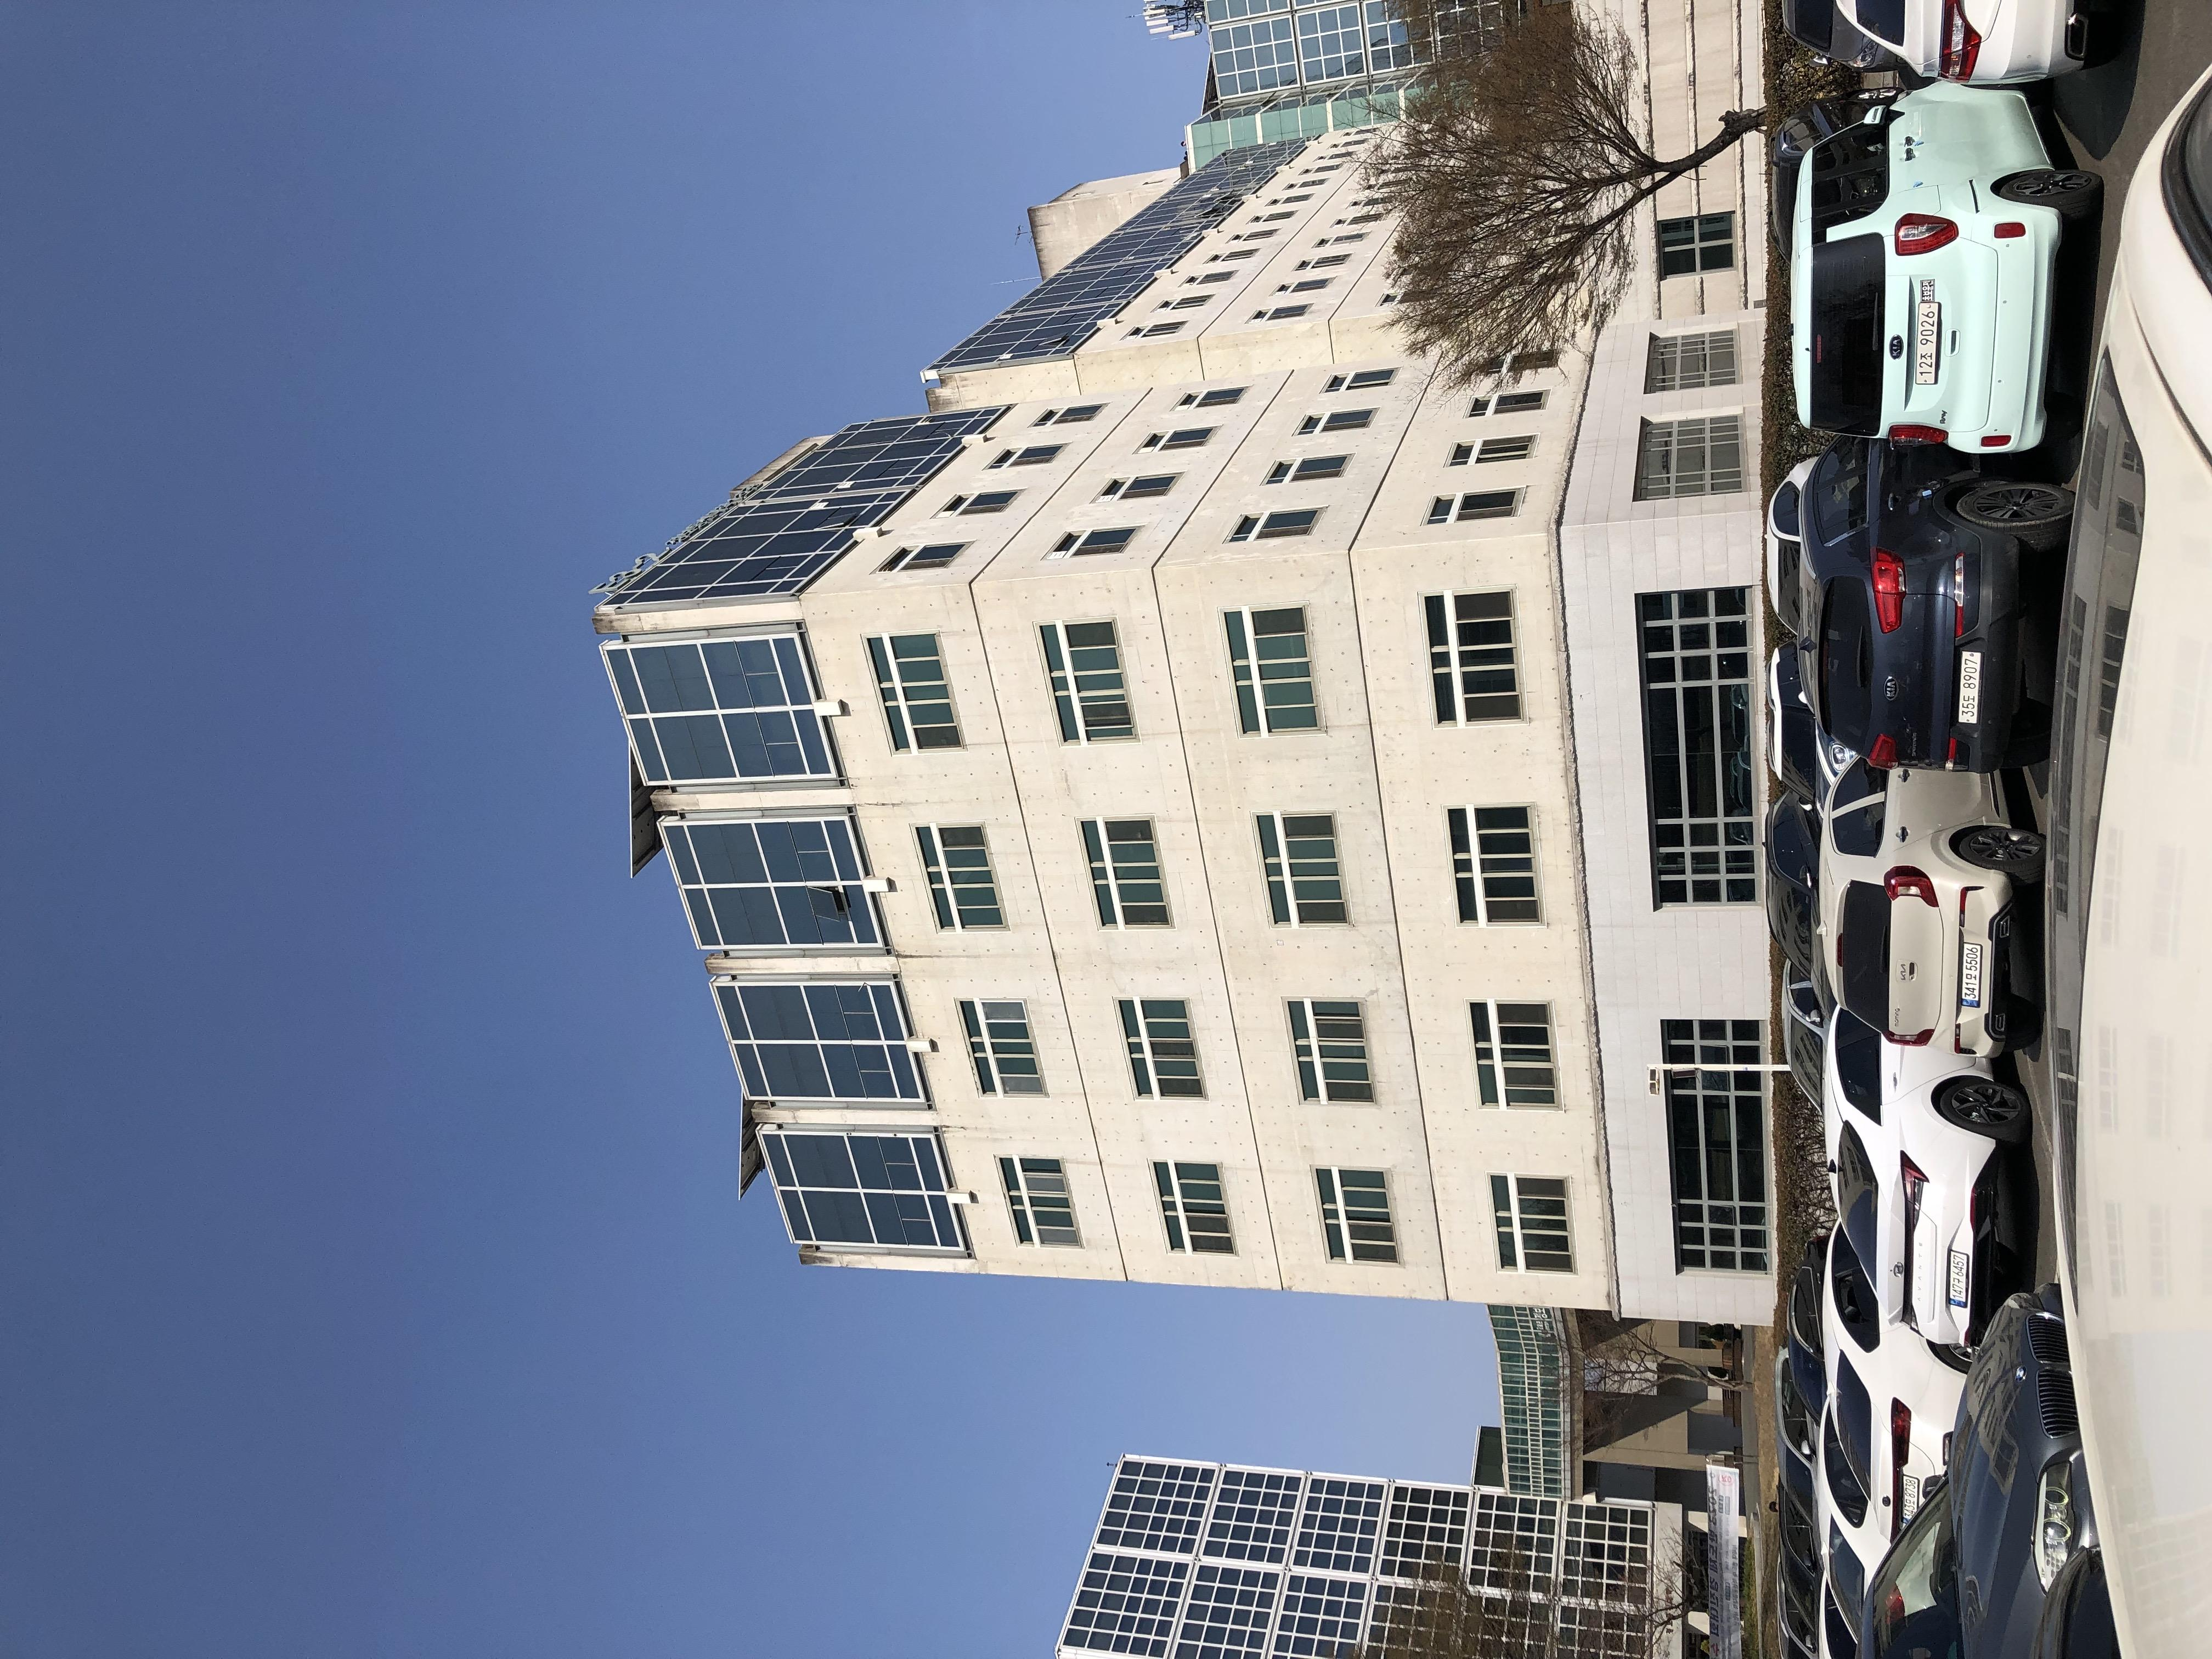building: (355, 411, 2121, 1398)
